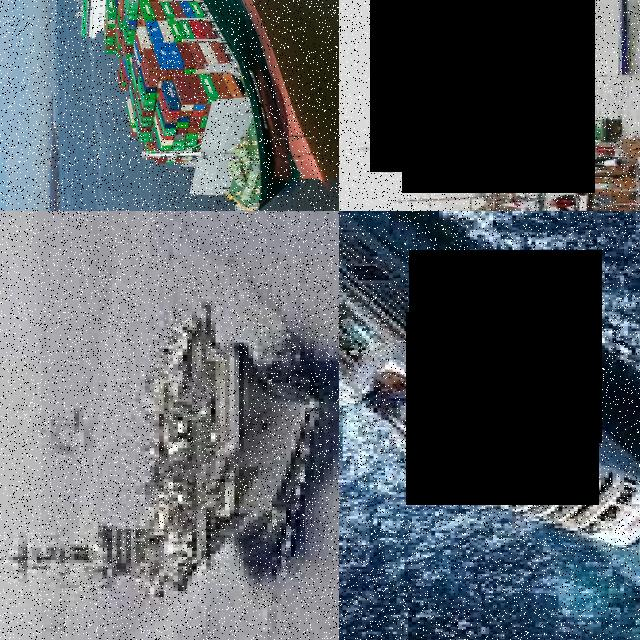aircraft carrier: (1, 305, 340, 600)
boat: (401, 103, 582, 193), (446, 1, 640, 80), (546, 127, 640, 212), (431, 1, 559, 46), (449, 182, 581, 212)
cargo ship: (59, 1, 340, 212)
cruise ship: (340, 212, 640, 549)
